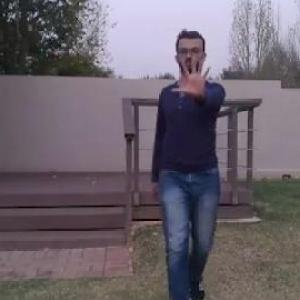follow_hand: (170, 53, 216, 96)
